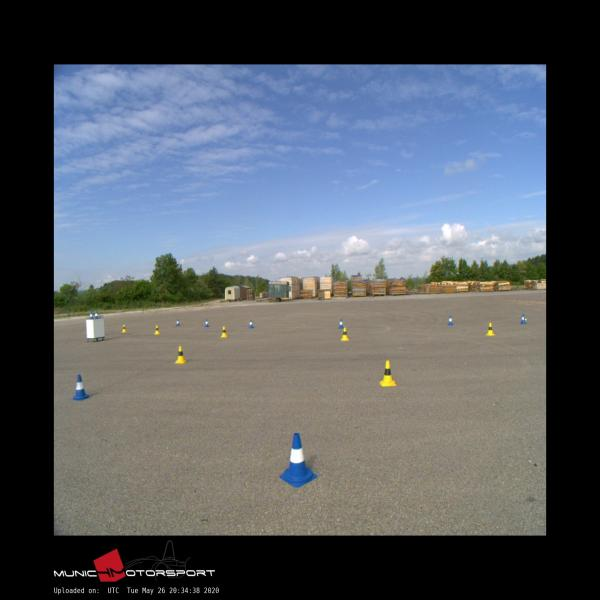blue_cone: (279, 433, 317, 487), (73, 374, 90, 400), (520, 314, 526, 323), (338, 318, 344, 327), (447, 316, 453, 324), (204, 319, 209, 327), (249, 319, 253, 328), (90, 310, 94, 319), (94, 310, 98, 319), (176, 319, 180, 326)
yellow_cone: (379, 360, 396, 386), (174, 345, 186, 363), (486, 322, 494, 335), (341, 327, 348, 340), (220, 326, 228, 336), (154, 325, 159, 334), (122, 324, 126, 332)
